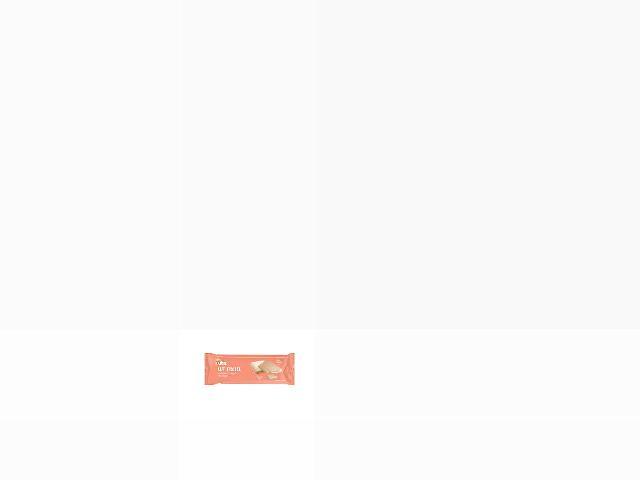chocolate: (200, 353, 294, 386)
